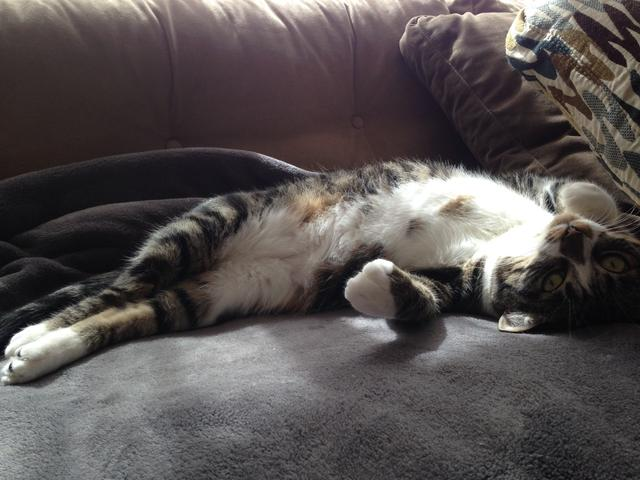playdoh: (1, 158, 640, 391)
